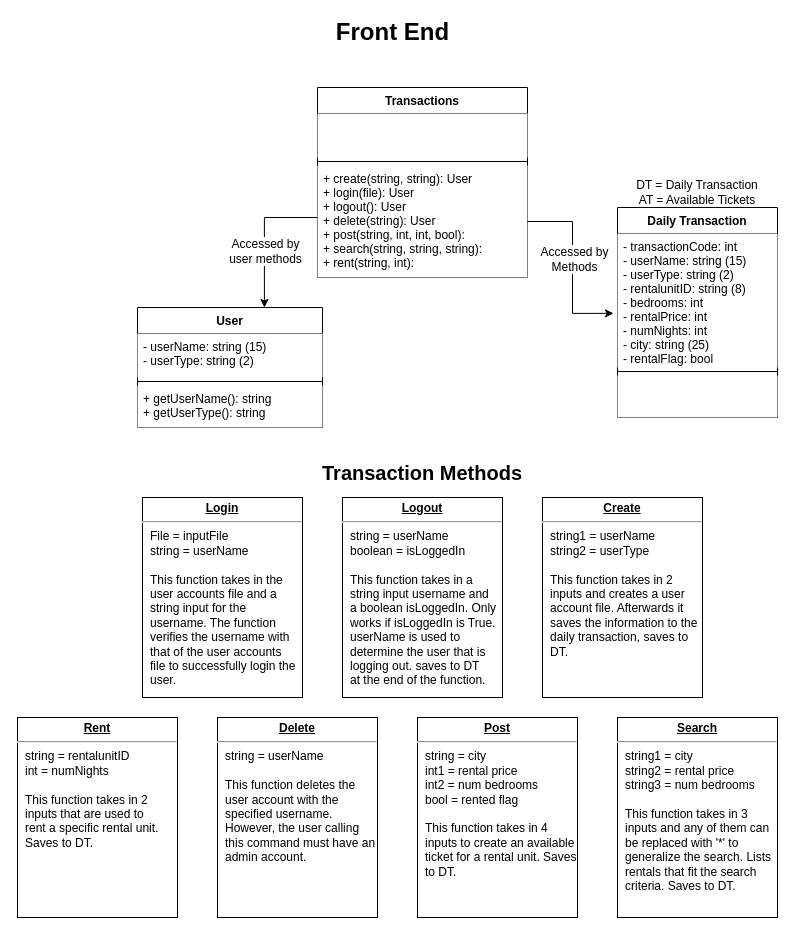
This 795x935 diagram has some shape labels left out. The shapes that lost their labels are listed below. From the top down, each one's centre as x and y in pixels, then its label:
pixel 422 135: + input: string + inputFile: file + dailyTransaction: Daily Transaction
pixel 697 396: + writeDT(): file + writeAT(): file
